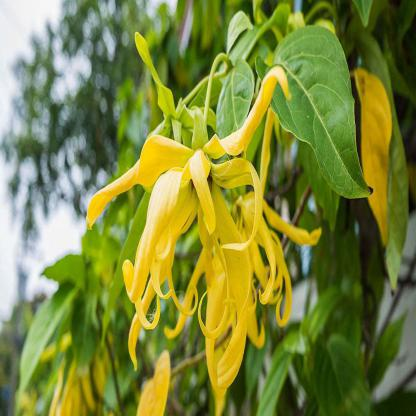Kenanga: (157, 124, 253, 311), (210, 192, 286, 352)
